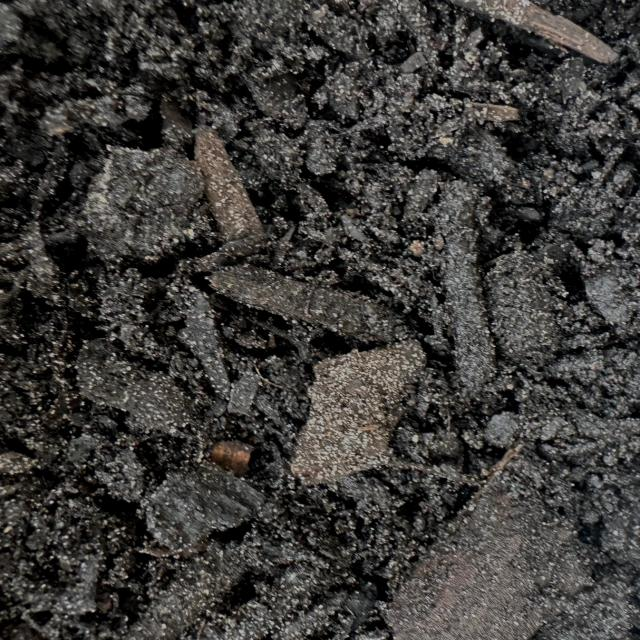materia_organica: (96, 22, 550, 562)
